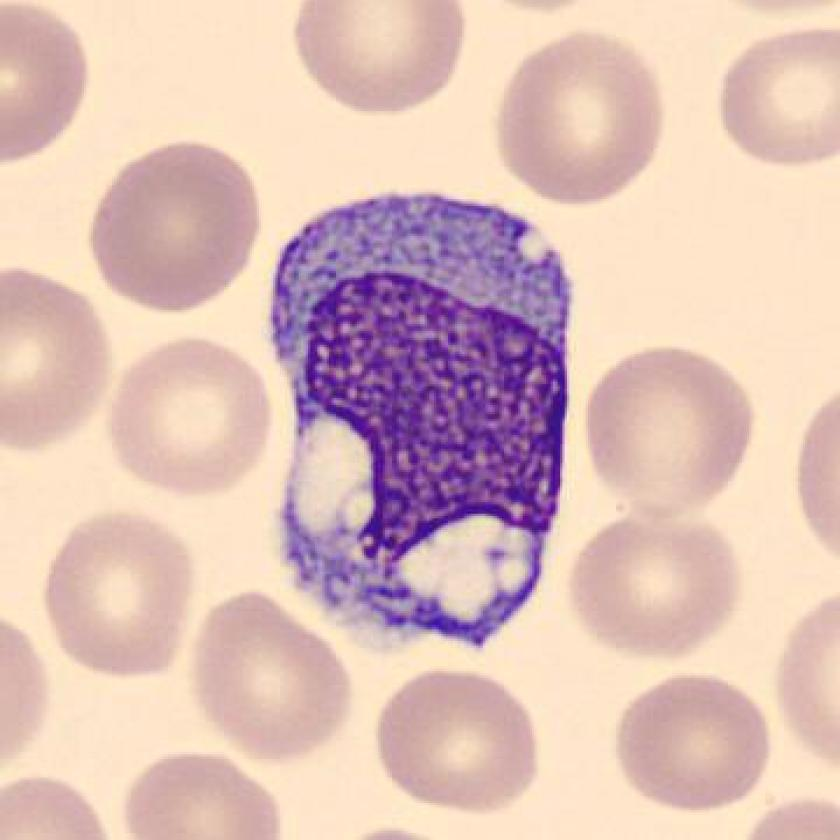monocyte: (232, 172, 603, 663)
